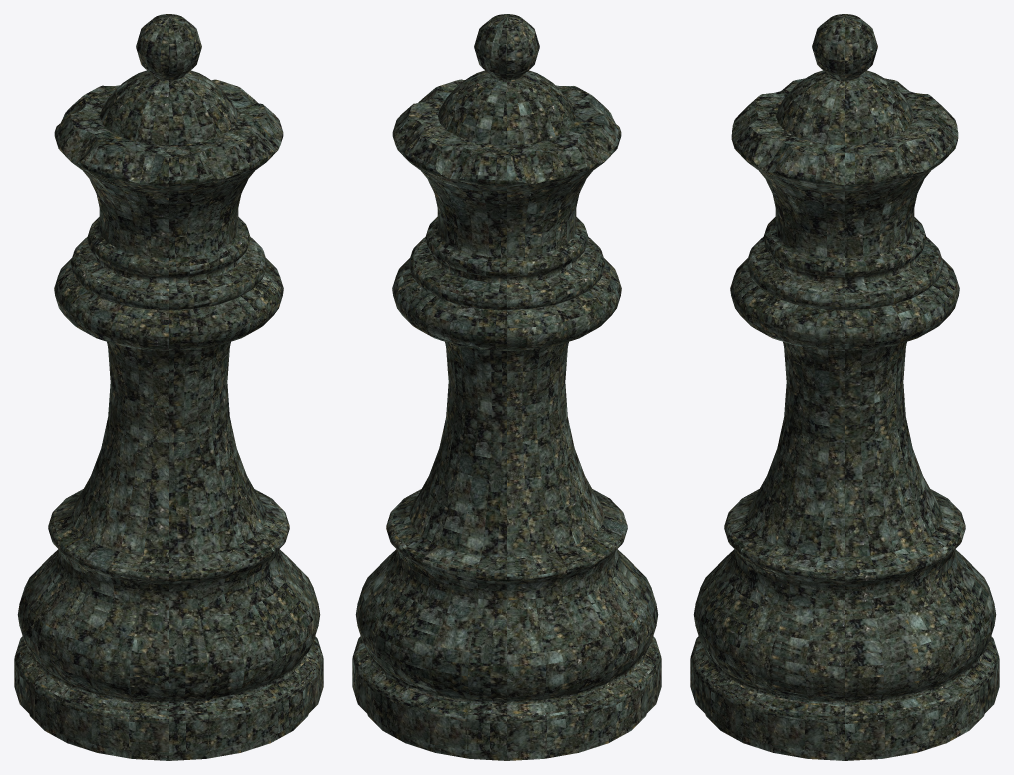
Rendered from black_queen.fbx.
3 views of the same model, side by side, from view 1: azimuth 30°, elevation 25°; view 2: azimuth 150°, elevation 25°; view 3: azimuth 270°, elevation 25° (orthographic).
Visible parts, largest first — view 1: Model; view 2: Model; view 3: Model.
Boxes of the visible parts, left/top/right/bottom form: Model: left=14, top=14, right=323, bottom=760; Model: left=352, top=14, right=661, bottom=760; Model: left=690, top=14, right=999, bottom=760.
Size of the model in its own units: 13.95 by 34.02 by 13.95.
1 material, 1 textured.
